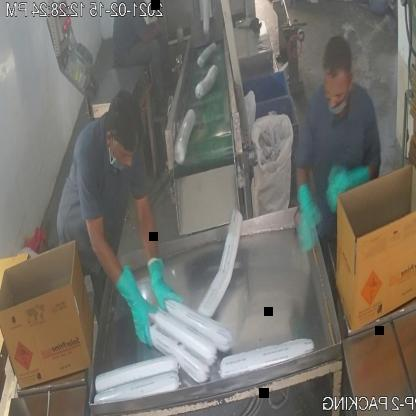glove: (112, 260, 160, 350), (323, 152, 380, 221), (146, 240, 190, 313), (291, 174, 324, 259)
no_glove: (135, 16, 171, 46)
